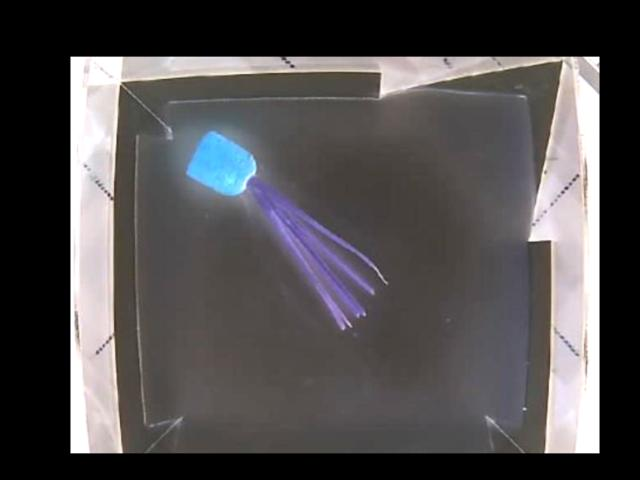Carrot: (185, 129, 299, 227)
